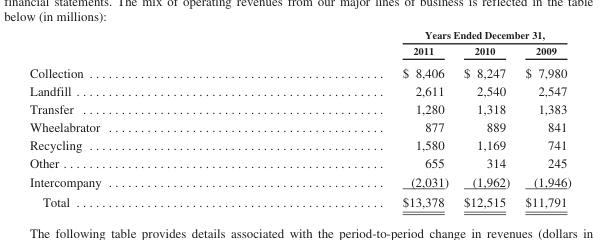table: (28, 28, 570, 209)
table column: (28, 28, 251, 209), (251, 28, 455, 209), (455, 28, 516, 209), (516, 28, 570, 209)
table column header: (28, 28, 570, 60)
table row: (28, 60, 570, 81), (28, 135, 570, 154), (28, 172, 570, 191), (28, 42, 570, 60), (28, 81, 570, 99), (28, 99, 570, 117), (28, 117, 570, 135), (28, 154, 570, 172), (28, 191, 570, 209), (28, 28, 570, 42)
table spanning cell: (251, 28, 570, 42)
